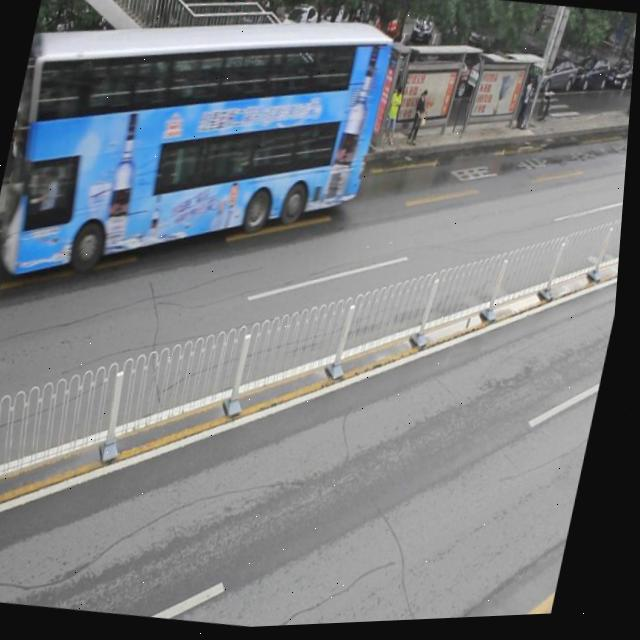car: (51, 63, 155, 148), (152, 61, 258, 133), (331, 48, 421, 123), (215, 75, 295, 159), (255, 51, 336, 124), (14, 83, 49, 143)
van: (0, 0, 400, 322)
